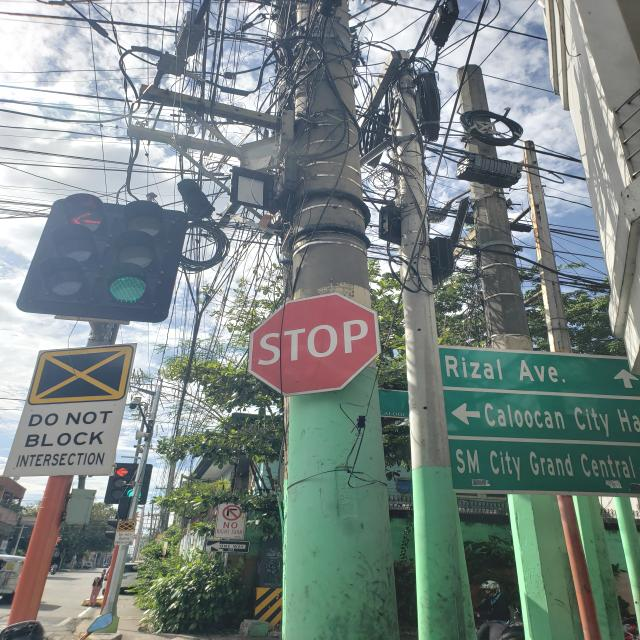stop-sign: (248, 292, 382, 397)
